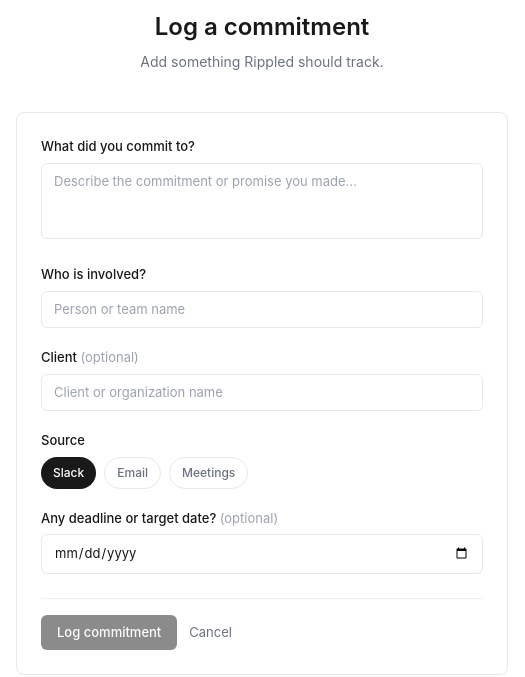
Test: LogCommitmentModal › shows generic API error for non-auth failures
Type "Deliver the report by Friday" into the text box with placeholder "Describe the commitment or promise you made..." at (262, 201), box [41, 162, 483, 239]
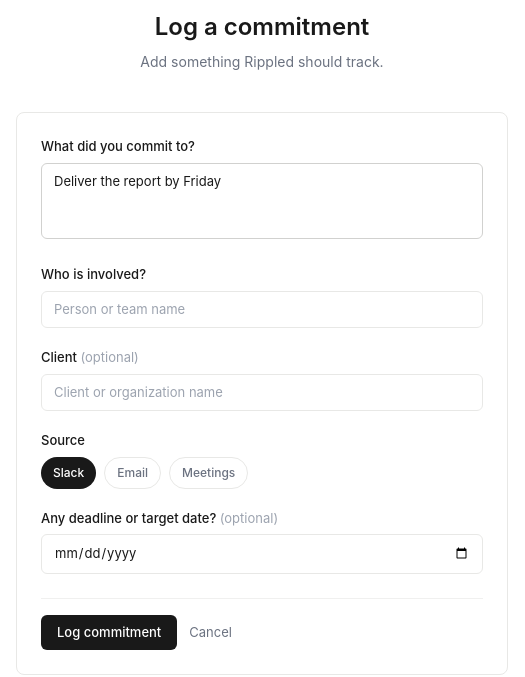
Click the button "Log commitment" at (109, 632), box [41, 614, 177, 650]
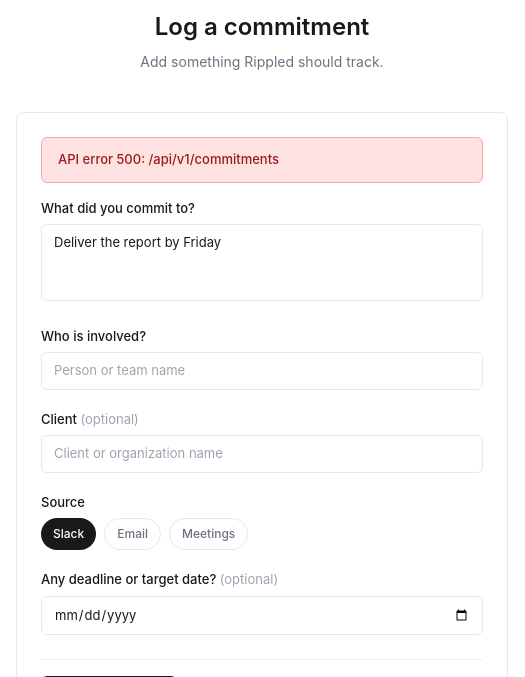
Expected: the text "API error 500: /api/v1/commitments" is shown, [41, 137, 483, 182]
